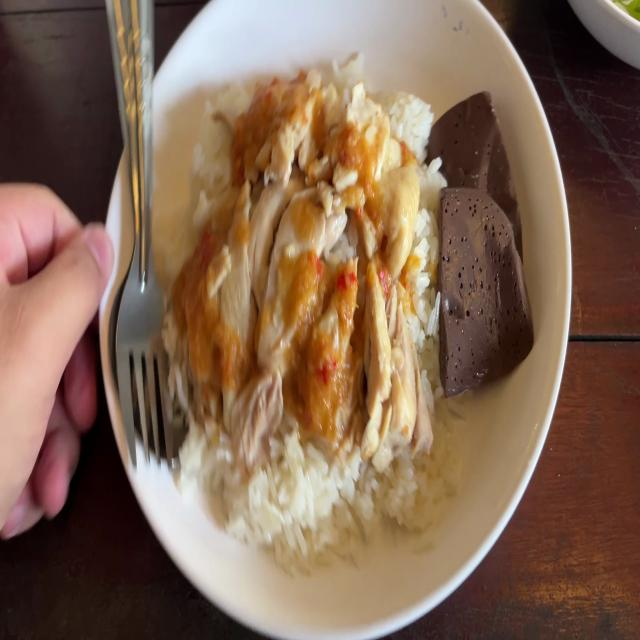chicken_rice: (210, 107, 410, 423)
noodle: (429, 94, 529, 380)
